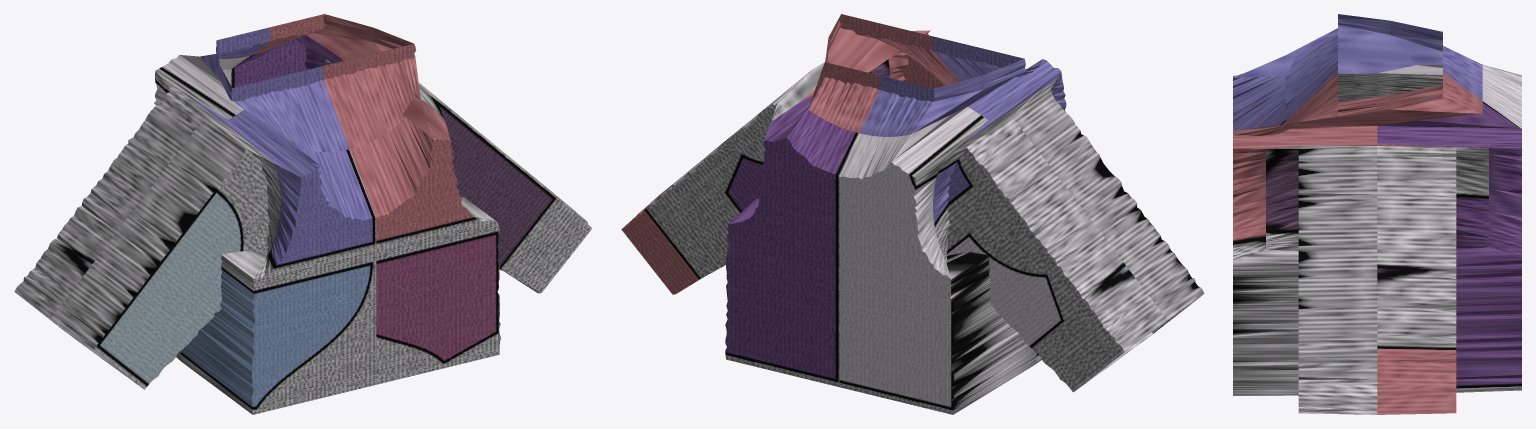
The model's file is valid_garment_upper_boxmesh.obj.
3 views of the same model, side by side, from view 1: azimuth 30°, elevation 25°; view 2: azimuth 150°, elevation 25°; view 3: azimuth 270°, elevation 25° (orthographic).
Size of the model in its own units: 110 by 58.46 by 55.
